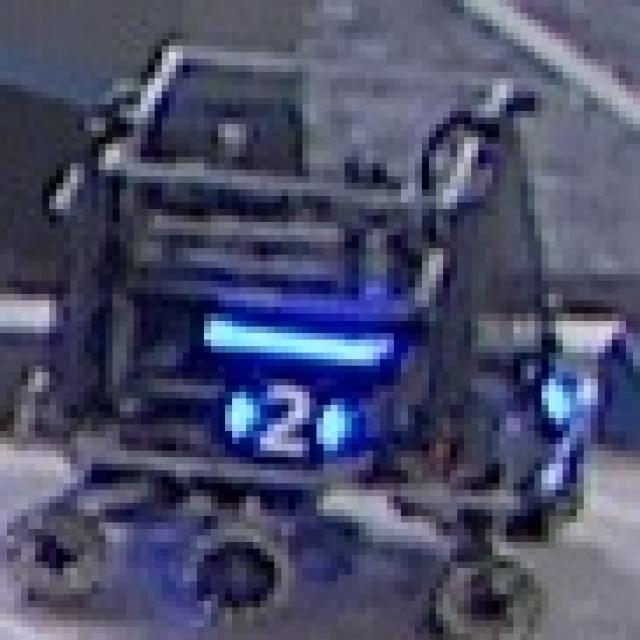B2: (218, 379, 345, 457)
